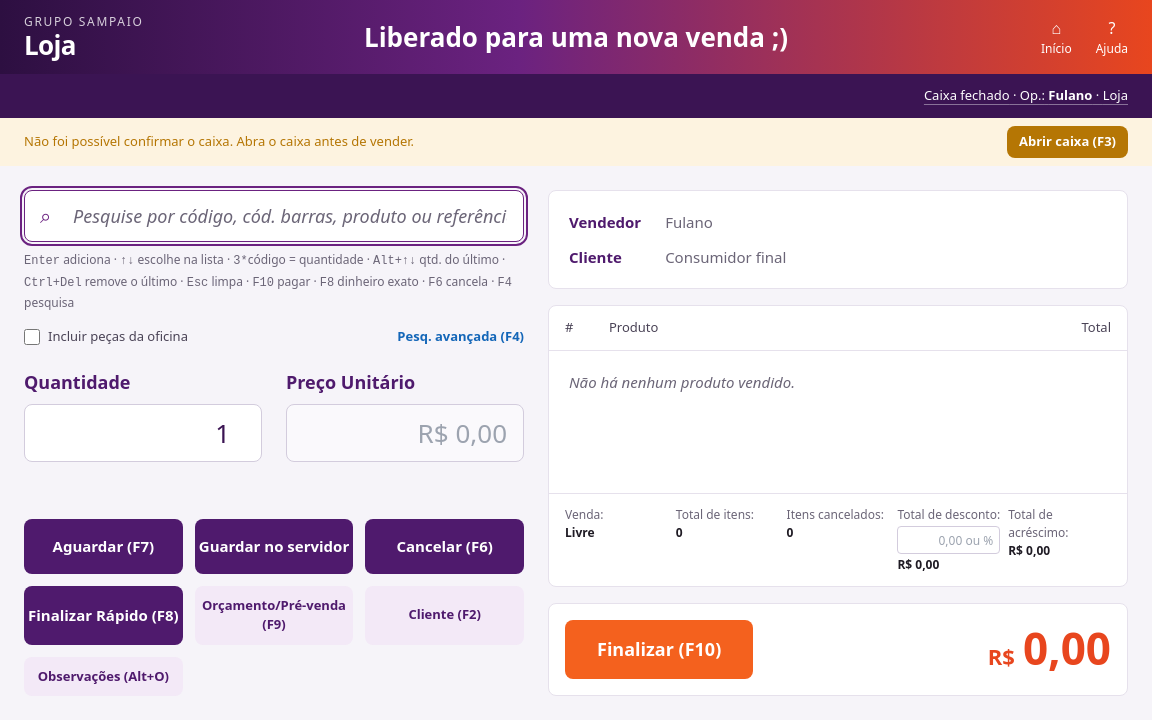
Test: o balcão vê e gasta o vale › com cliente e saldo, o diálogo mostra o crédito e o valor disponível
Type "7890000002222" into the field labelled "Pesquise por código, cód. barras, produto ou referência" at x=274, y=216, box [24,190,524,242]
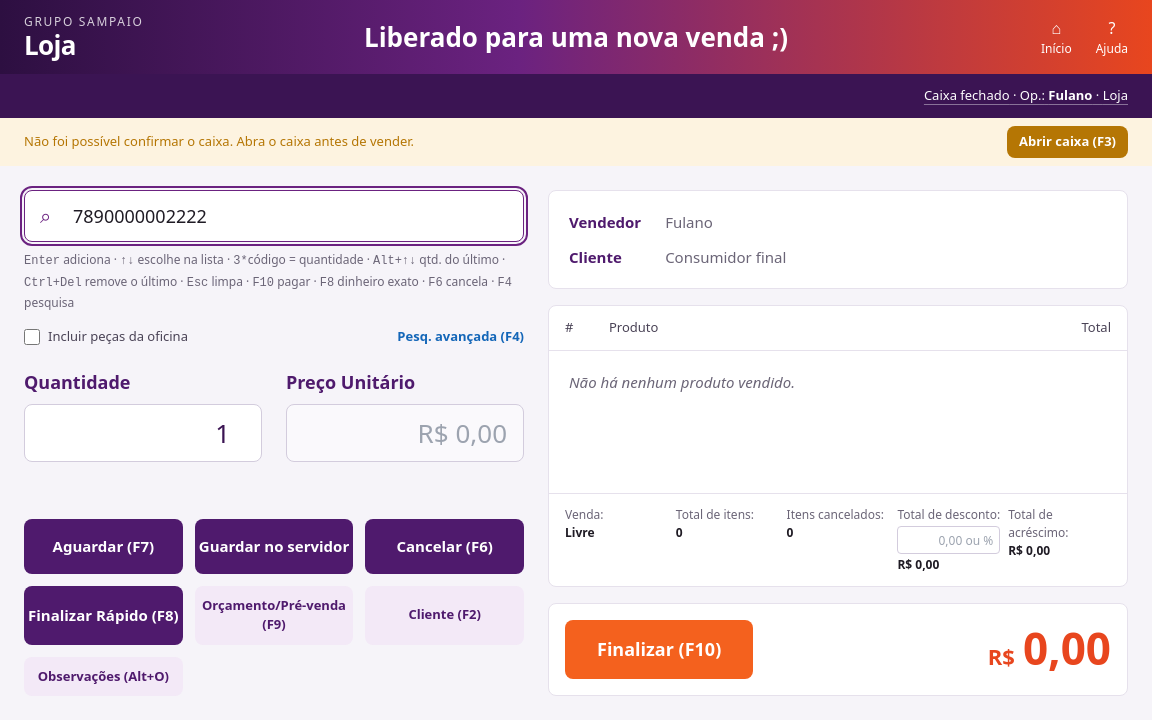
Press Enter in the field named "Pesquise por código", box [24,190,524,242]
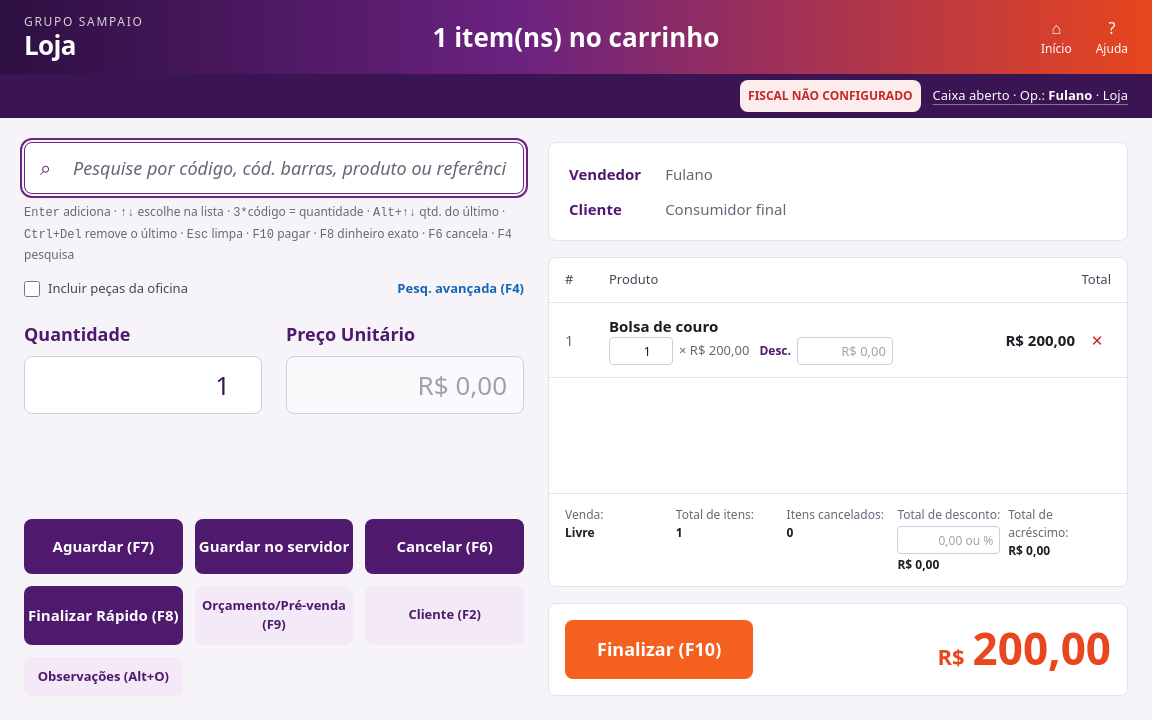
Result: the button named "Remover " is shown at [1083,324,1111,356]
Click the button "Cliente (F2)" at x=445, y=615, box [365,586,524,644]
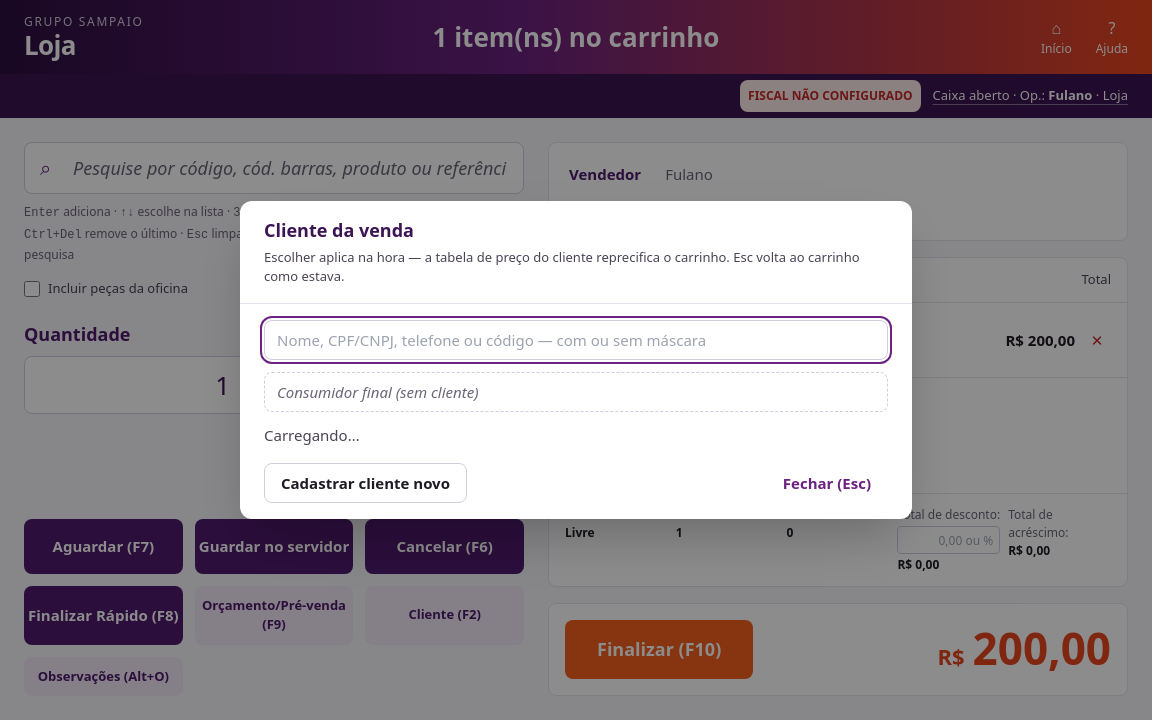
Type "Marta Compradora" into the field named "Buscar cliente" at x=576, y=340, box [264,320,888,360]
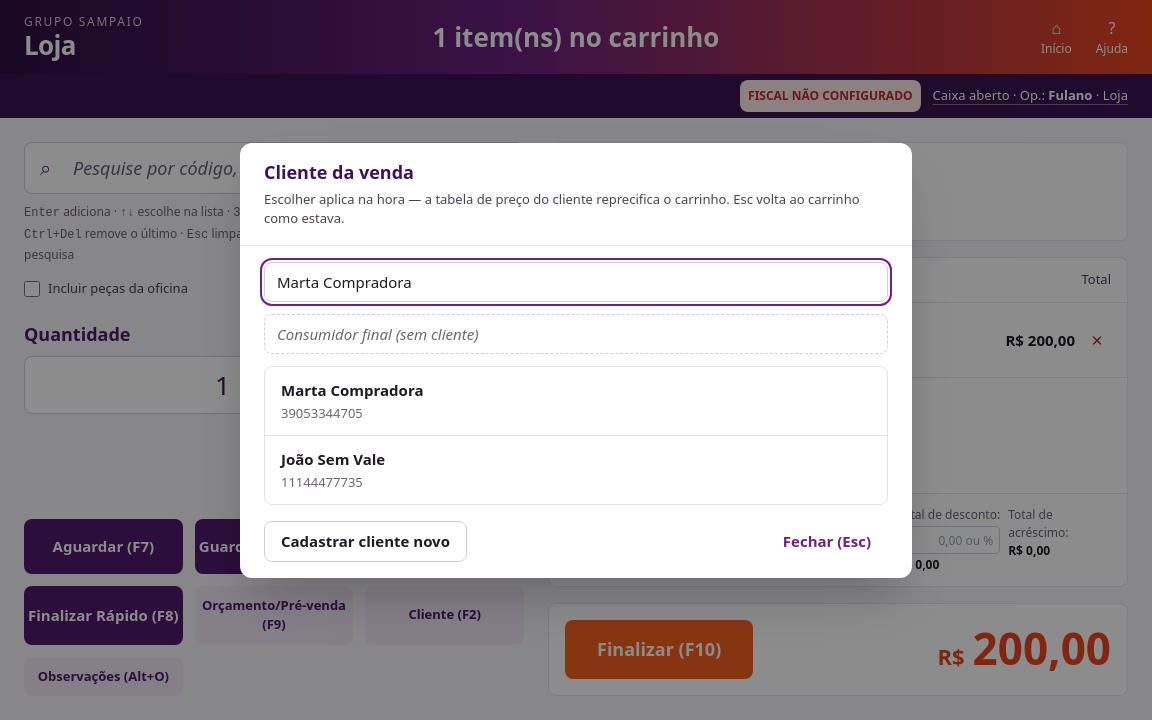
Click the button "Marta Compradora 39053344705" at x=352, y=390, box [265,367,887,435]
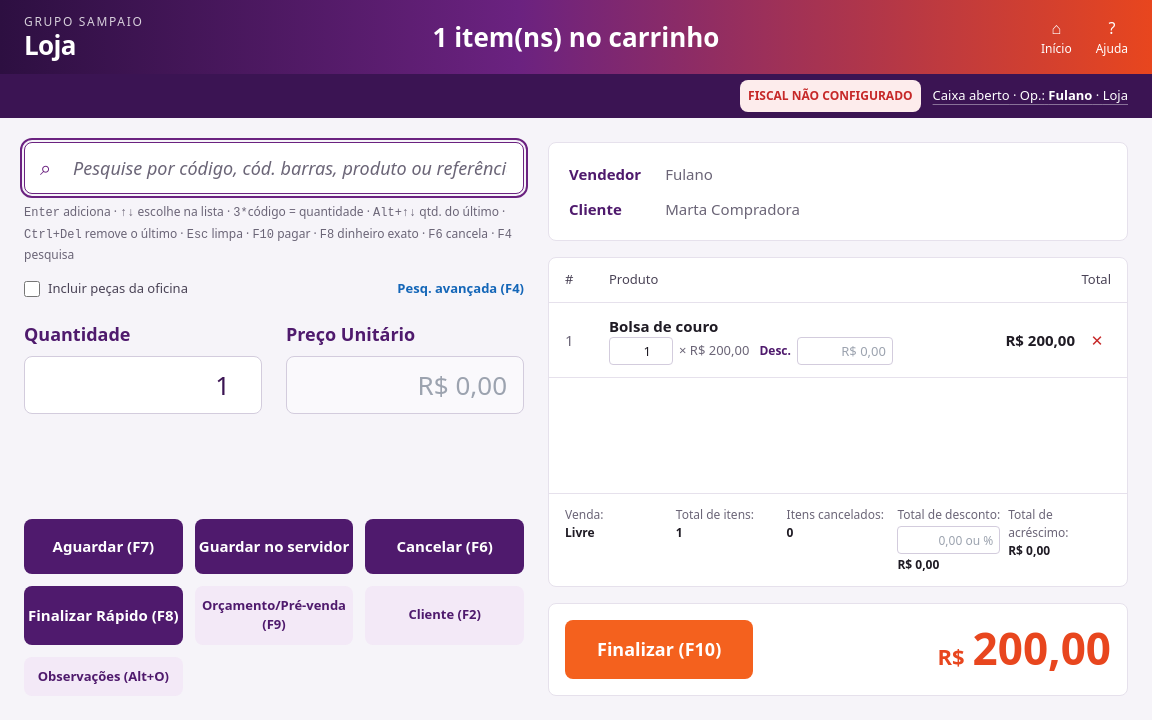
Click the button "Finalizar (F10)" at x=659, y=650, box [565,620,753,679]
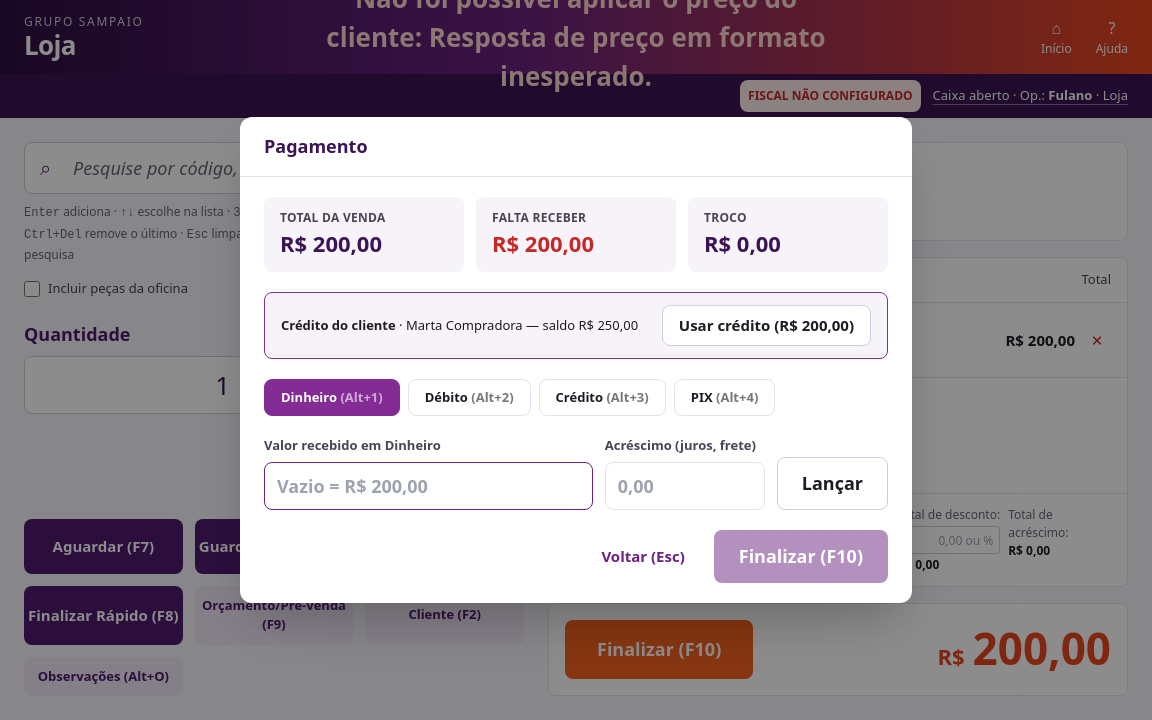
Result: the dialog "Pagamento" is shown
Result: the element with test id "pdv-credito-de-loja" shows "Marta Compradora" at [396,316,523,334]
